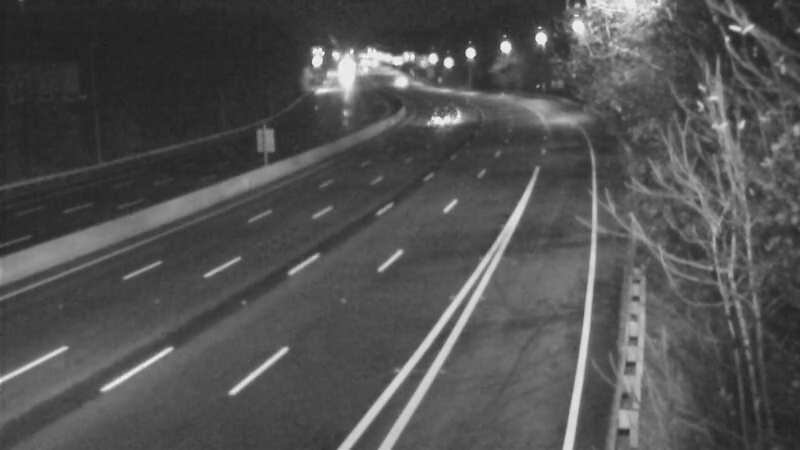vehicle: (377, 57, 427, 107), (411, 90, 461, 140)
